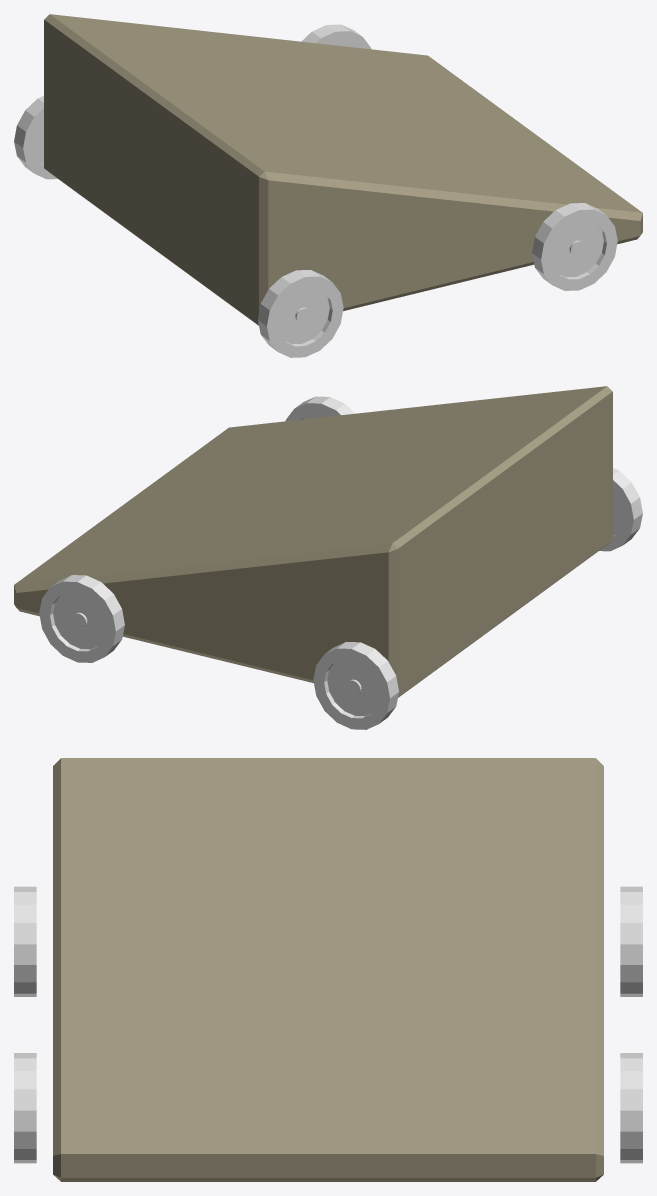
File: robot.gltf
3 renders of one model, top to bottom at view 1: azimuth 30°, elevation 25°; view 2: azimuth 150°, elevation 25°; view 3: azimuth 270°, elevation 25°, orthographic. The views are drawn at different scales.
Visible parts, largest first — view 1: Robot, WheelBackRight, WheelFrontRight, WheelBackLeft, WheelFrontLeft; view 2: Robot, WheelBackLeft, WheelFrontLeft, WheelBackRight, WheelFrontRight; view 3: Robot, WheelBackLeft, WheelBackRight, WheelFrontLeft, WheelFrontRight.
Boxes of the visible parts, x1,y1,x2,y2 form: Robot: (44,14,642,325); WheelBackRight: (258,270,343,357); WheelFrontRight: (532,203,617,290); WheelBackLeft: (14,96,57,179); WheelFrontLeft: (301,24,371,49); Robot: (14,386,612,697); WheelBackLeft: (313,642,398,729); WheelFrontLeft: (39,575,124,662); WheelBackRight: (599,468,642,551); WheelFrontRight: (285,396,355,421); Robot: (53,758,603,1181); WheelBackLeft: (620,886,642,996); WheelBackRight: (14,886,36,996); WheelFrontLeft: (620,1053,642,1163); WheelFrontRight: (14,1053,36,1163).
Size of the model in its own units: 2.06 by 0.8828 by 2.28.
